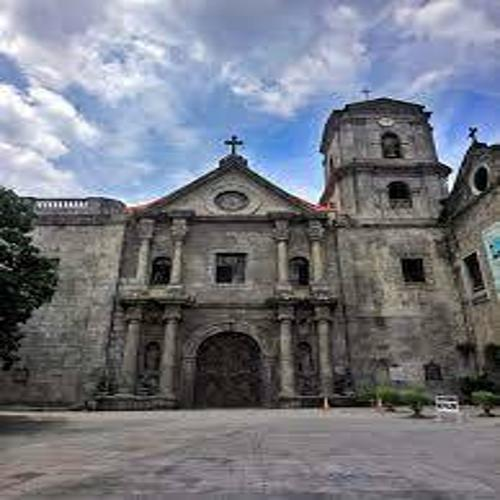San Agustin Church: (129, 80, 460, 413)
